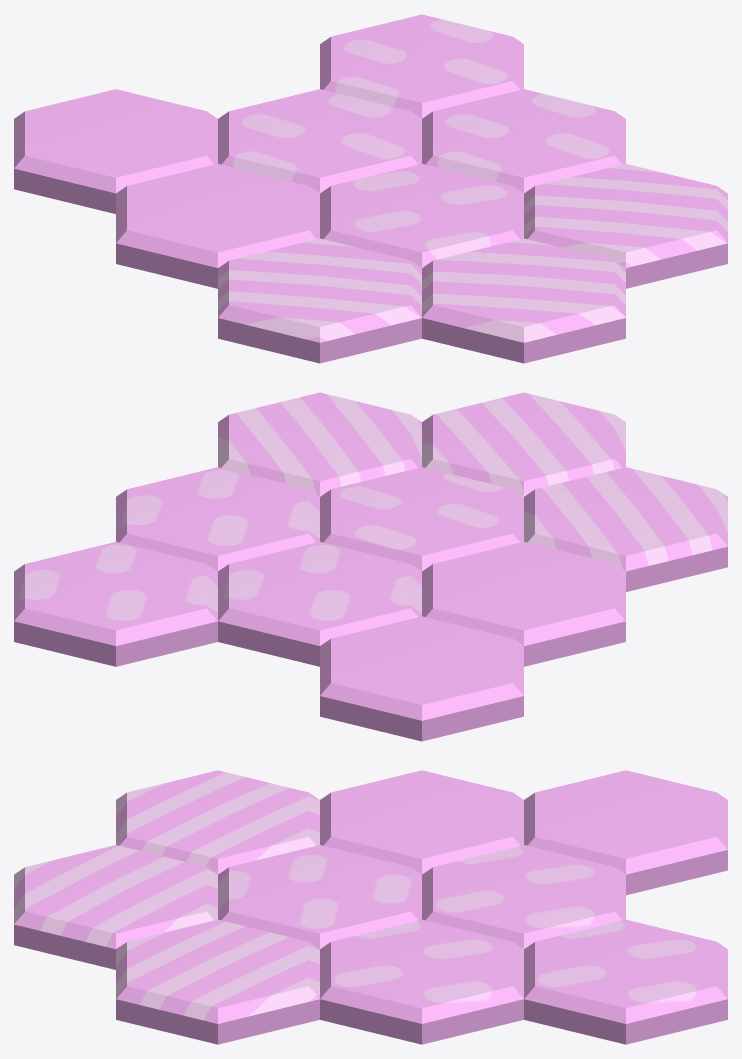
The model's file is PLF0110031.fbx.
3 renders of one model, top to bottom at view 1: azimuth 30°, elevation 25°; view 2: azimuth 150°, elevation 25°; view 3: azimuth 270°, elevation 25°, orthographic.
Visible parts, largest first — view 1: smPLF0110031; view 2: smPLF0110031; view 3: smPLF0110031.
Part boxes in pixels (x1,y1,x2,y2): smPLF0110031: [14, 14, 727, 363]; smPLF0110031: [14, 392, 727, 741]; smPLF0110031: [14, 770, 727, 1044].
Bounding box in the file's own units: 700 × 43.2 × 849.
Materials: 1 (1 with a texture image).
